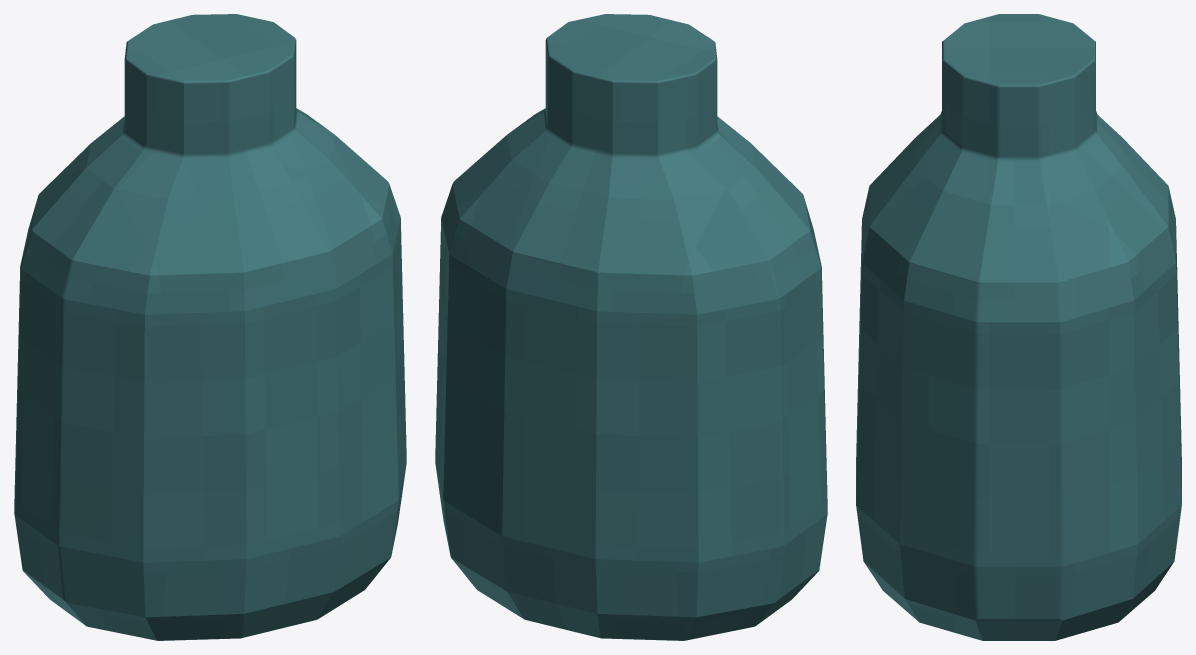
The model's file is Vessel.glb.
The picture shows the model from 3 angles, left to right: view 1: azimuth 30°, elevation 25°; view 2: azimuth 150°, elevation 25°; view 3: azimuth 270°, elevation 25°; orthographic projection.
Visible parts, largest first — view 1: Vessel; view 2: Vessel; view 3: Vessel.
Part boxes in pixels (left/top/right/bottom): Vessel: left=14, top=14, right=406, bottom=640; Vessel: left=435, top=14, right=827, bottom=640; Vessel: left=856, top=14, right=1181, bottom=640.
Size of the model in its own units: 0.2589 by 0.378 by 0.2125.
1 material, 1 textured.
